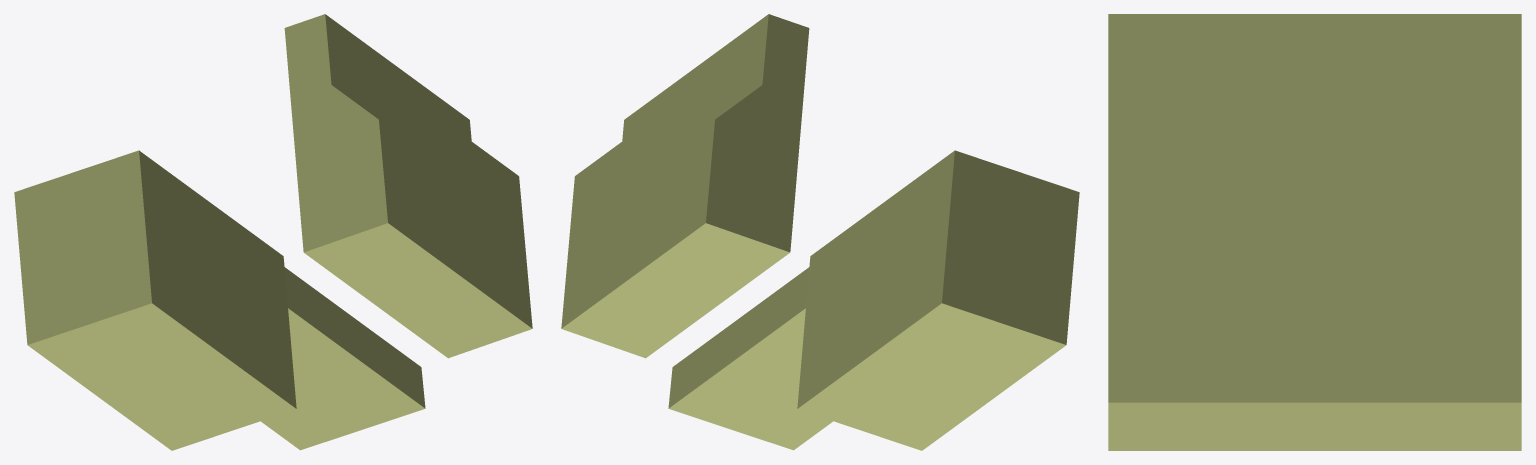
3 renders of one model, left to right at view 1: azimuth 30°, elevation 25°; view 2: azimuth 150°, elevation 25°; view 3: azimuth 270°, elevation 25°, orthographic. The views are drawn at different scales.
Visible parts, largest first — view 1: 0_2_3_3_3_1_0_2_0_0_1; view 2: 0_2_3_3_3_1_0_2_0_0_1; view 3: 0_2_3_3_3_1_0_2_0_0_1.
Boxes of the visible parts, <box> form: 0_2_3_3_3_1_0_2_0_0_1: <box>14,14,532,450</box>; 0_2_3_3_3_1_0_2_0_0_1: <box>561,14,1079,450</box>; 0_2_3_3_3_1_0_2_0_0_1: <box>1108,14,1521,450</box>.
Size of the model in its own units: 13.43 by 9.93 by 9.
